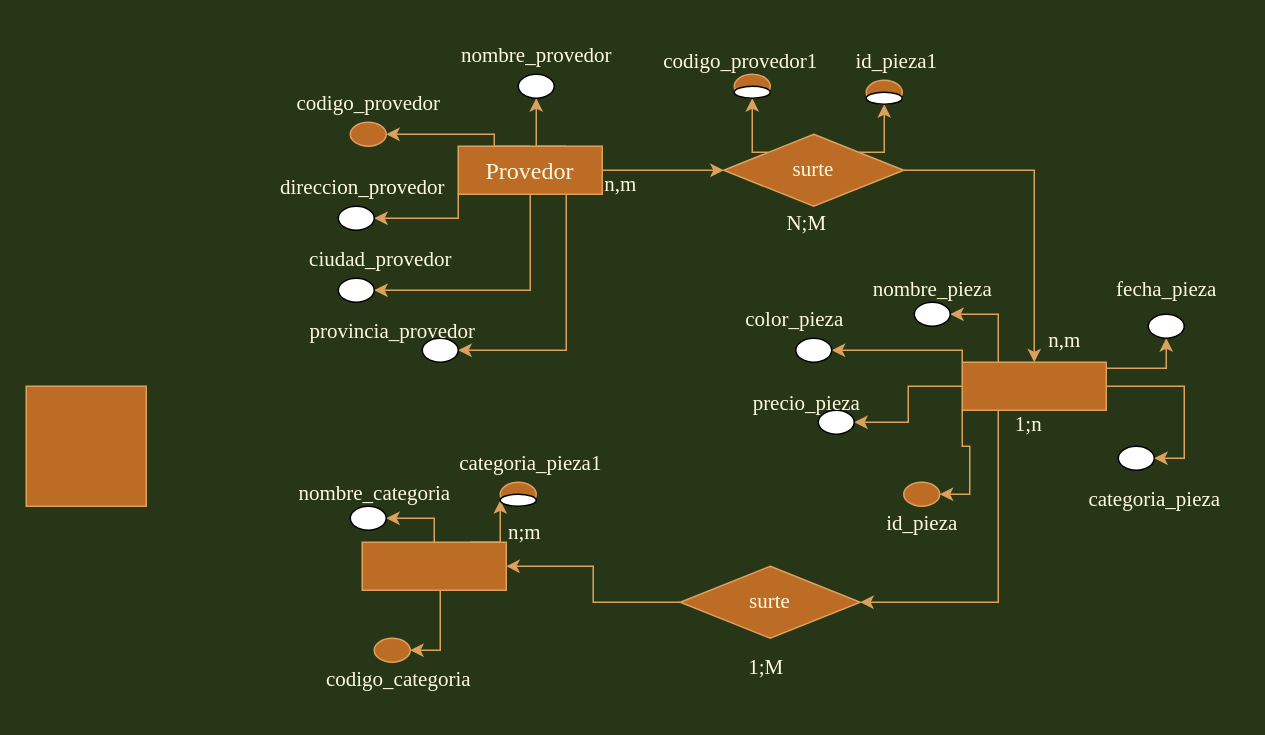
Some shapes in this 1265 by 735 pixel diagram are drawn without their labels. The shapes that lost their labels are listed below. From the top down, each one's centre as x and y in pixels, then its label:
At point (1033, 385): "Piezas".
At point (433, 565): "Categoria".
